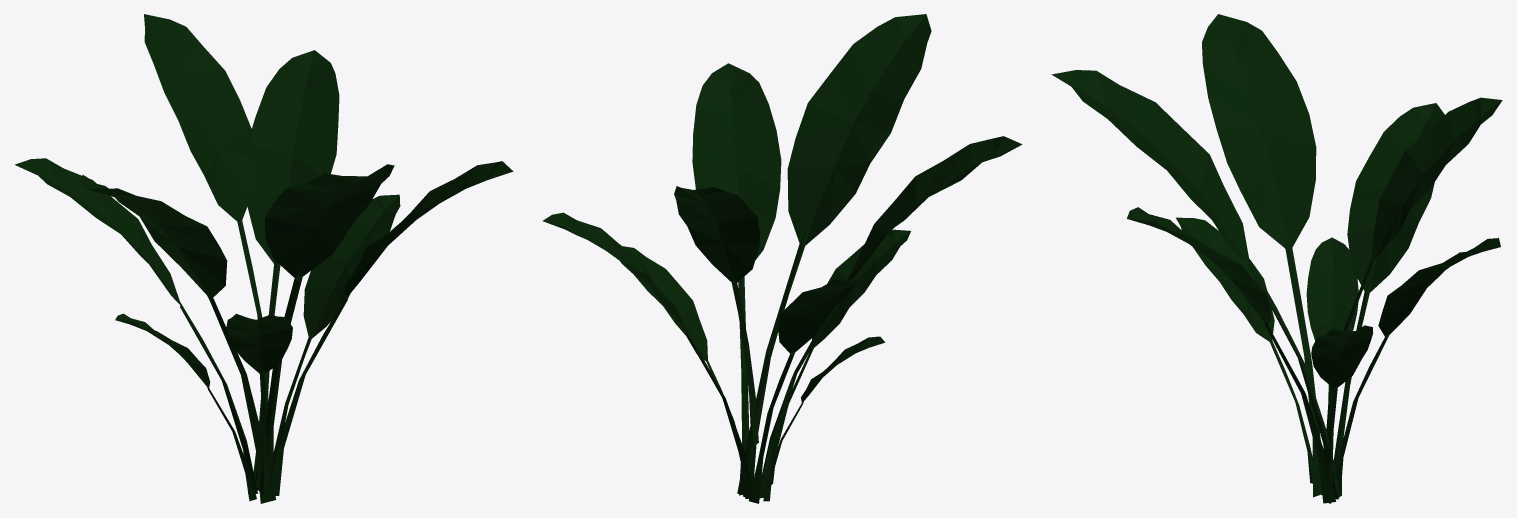
The model's file is SM_BirdOfParadise.obj.
3 renders of one model, left to right at view 1: azimuth 30°, elevation 25°; view 2: azimuth 150°, elevation 25°; view 3: azimuth 270°, elevation 25°, orthographic. The views are drawn at different scales.
Parts seen in each view (by area): view 1: SM_BirdOfParadise; view 2: SM_BirdOfParadise; view 3: SM_BirdOfParadise.
Boxes of the visible parts, box(x1,y1,x2,y2) form: SM_BirdOfParadise: box(15, 14, 513, 503); SM_BirdOfParadise: box(543, 14, 1022, 503); SM_BirdOfParadise: box(1051, 14, 1502, 503).
Bounding box in the file's own units: 2.25 × 2.44 × 2.45.
